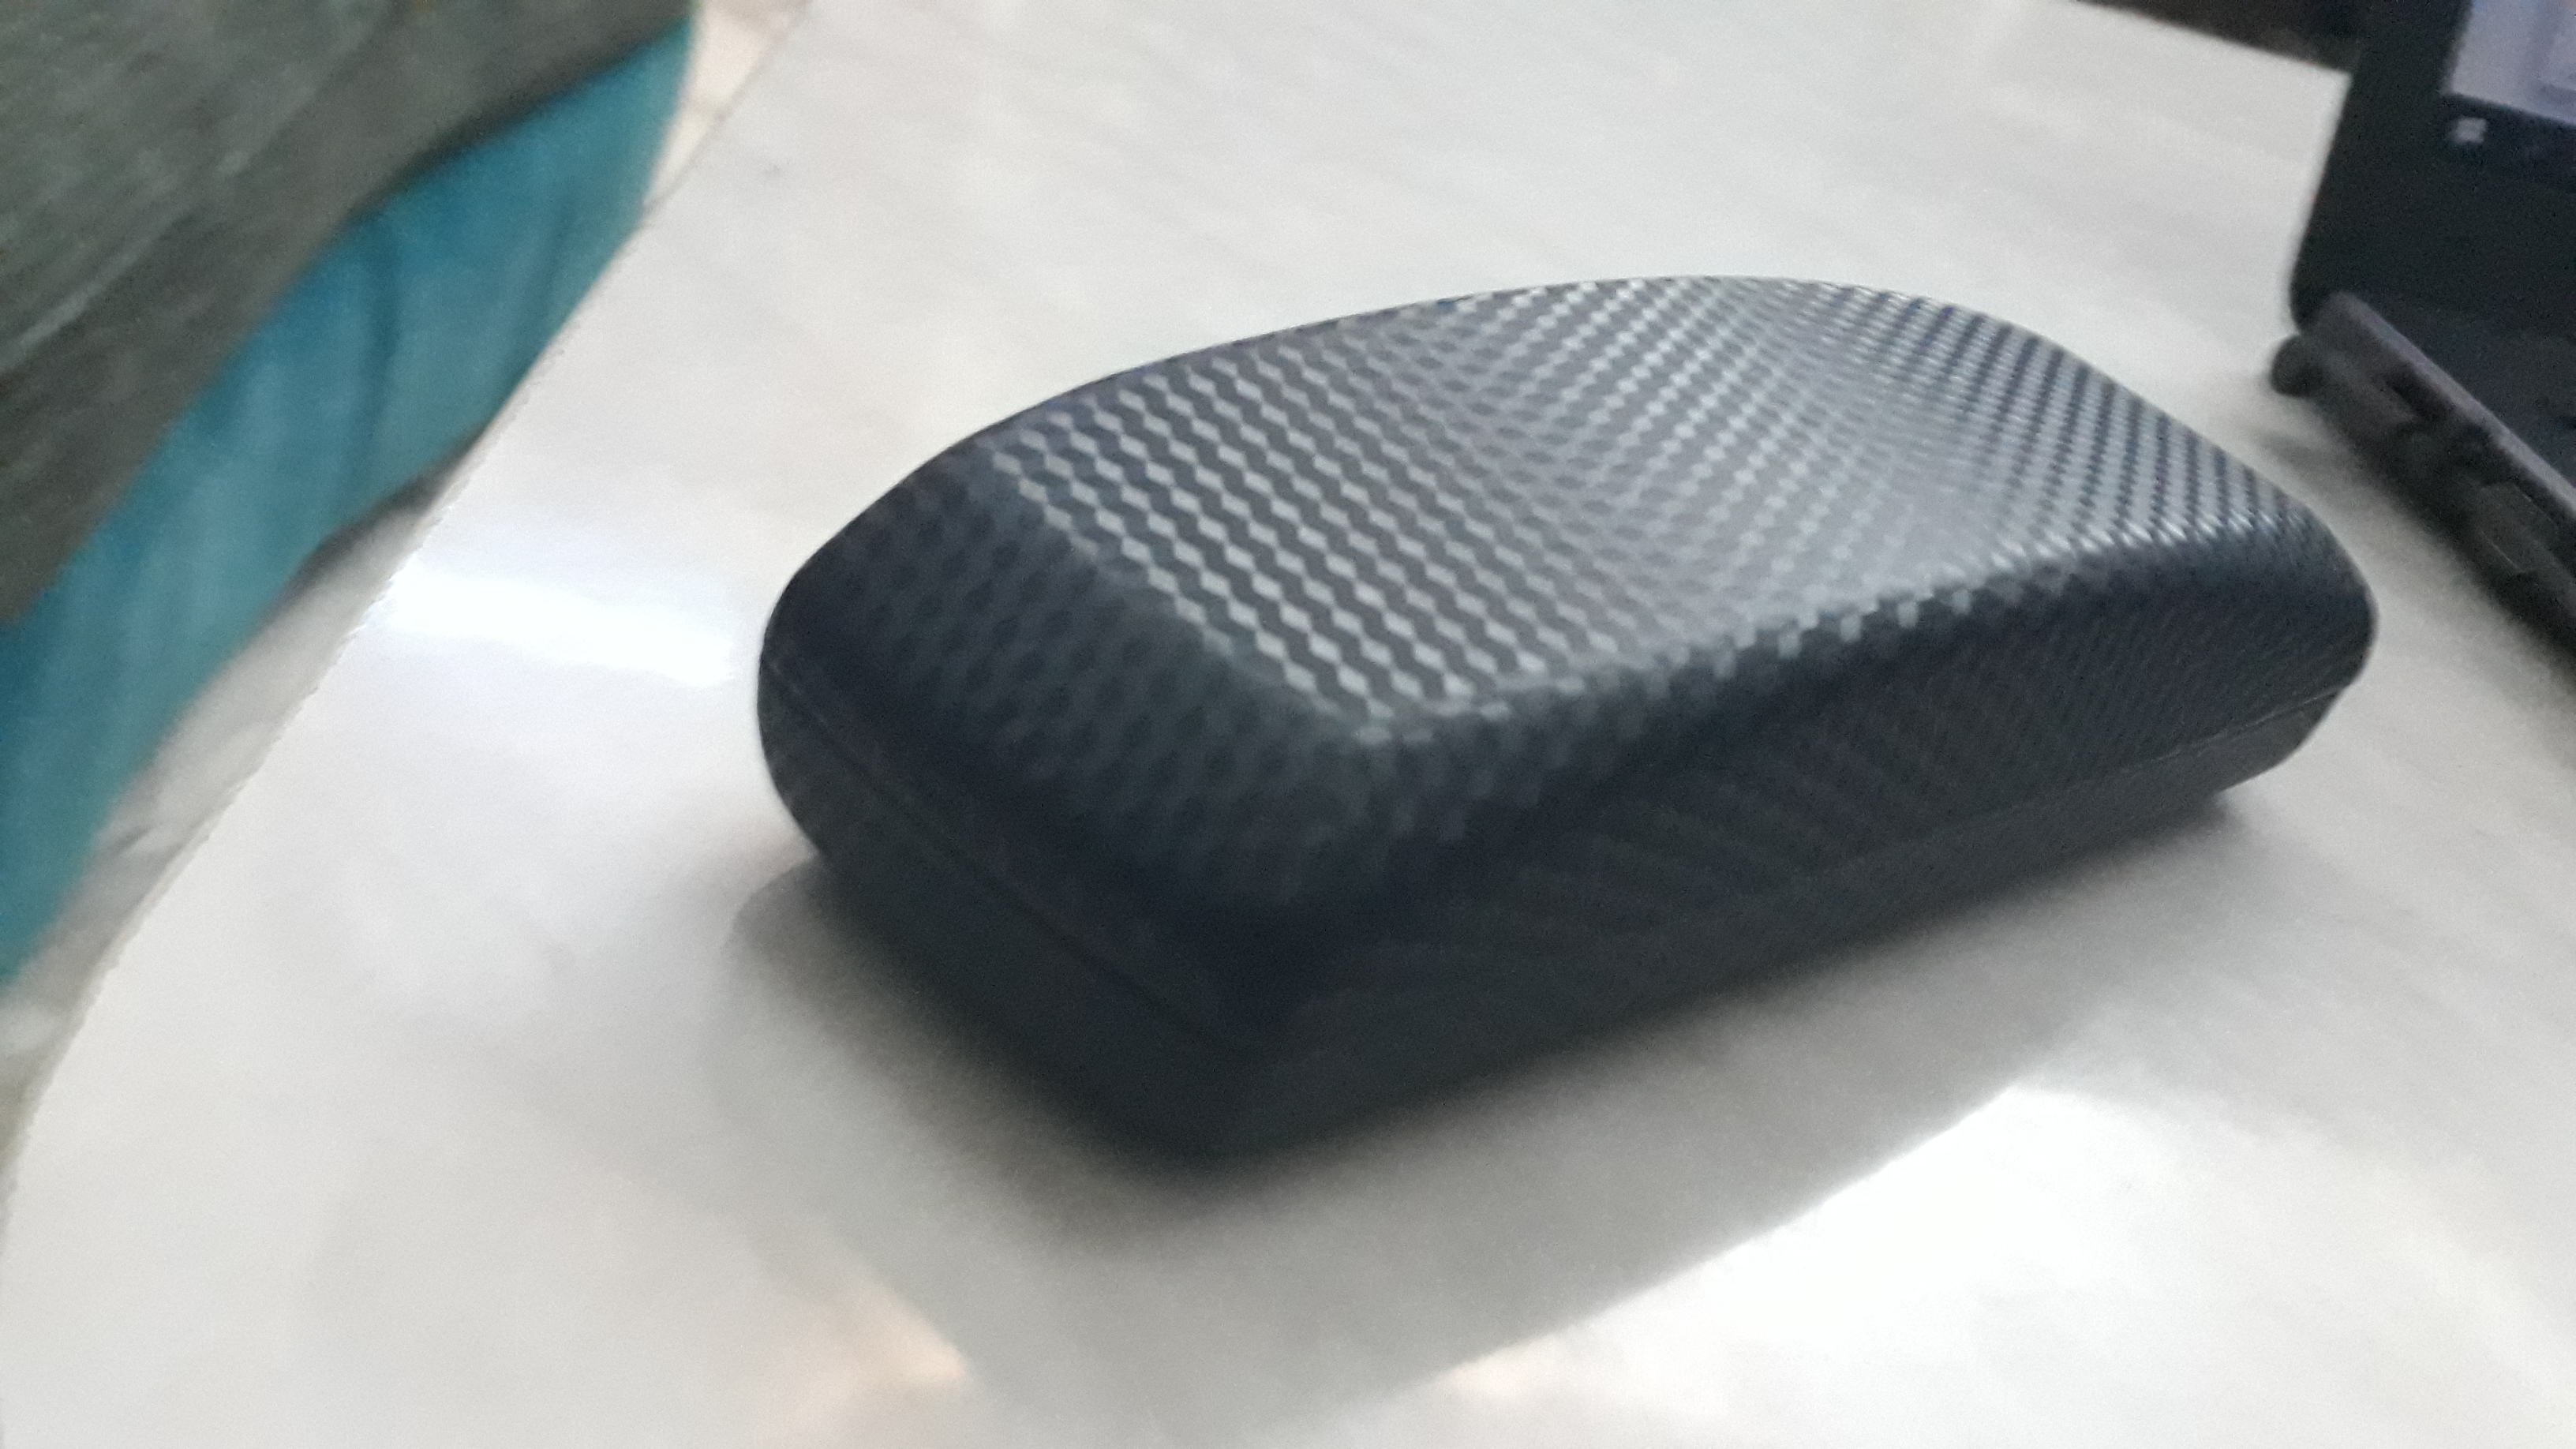nadar: (688, 214, 2376, 1171)
